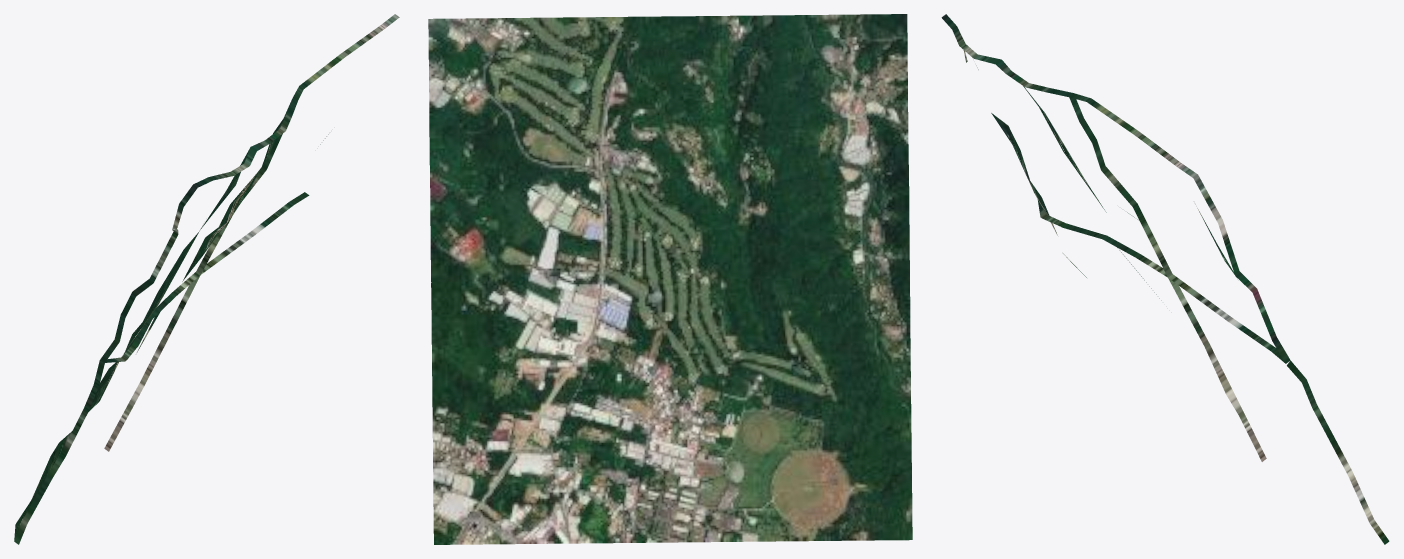
The picture shows the model from 3 angles, left to right: view 1: azimuth 30°, elevation 25°; view 2: azimuth 150°, elevation 25°; view 3: azimuth 270°, elevation 25°; orthographic projection. The views are drawn at different scales.
Bounding box in the file's own units: 2413 × 2252 × 2137.
1 material, 1 textured.
